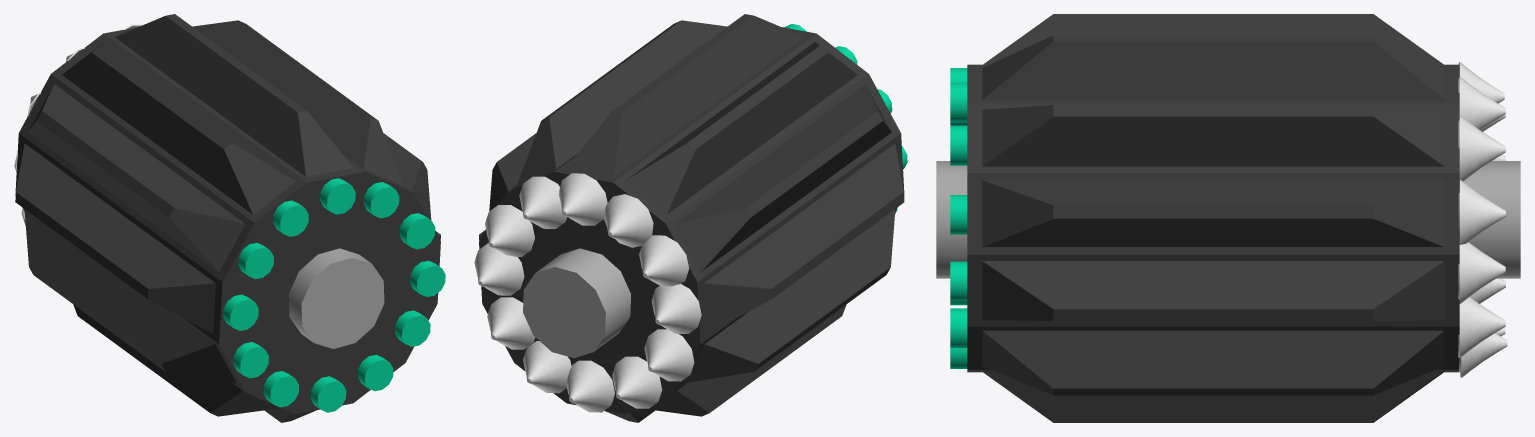
Rendered from AmmoPart.FBX.
3 views of the same model, side by side, from view 1: azimuth 30°, elevation 25°; view 2: azimuth 150°, elevation 25°; view 3: azimuth 270°, elevation 25° (orthographic). The views are drawn at different scales.
Visible parts, largest first — view 1: Ammo; view 2: Ammo, Cylinder072, Cylinder069, Cylinder068, Cylinder070, Cylinder066, Cylinder062, Cylinder061, Cylinder071, Cylinder065, Cylinder067, Cylinder064 (+1 smaller); view 3: Ammo, Cylinder066, Cylinder067, Cylinder065, Cylinder064, Cylinder068, Cylinder063, Cylinder069.
Part boxes in pixels (bbox=[...]): Ammo: bbox=[15, 14, 445, 422]; Ammo: bbox=[479, 14, 907, 422]; Cylinder072: bbox=[644, 329, 694, 381]; Cylinder069: bbox=[604, 194, 653, 247]; Cylinder068: bbox=[559, 173, 607, 225]; Cylinder070: bbox=[639, 235, 689, 286]; Cylinder066: bbox=[485, 205, 534, 256]; Cylinder062: bbox=[566, 360, 614, 412]; Cylinder061: bbox=[612, 356, 662, 408]; Cylinder071: bbox=[651, 284, 701, 333]; Cylinder065: bbox=[474, 243, 524, 295]; Cylinder067: bbox=[519, 176, 566, 228]; Cylinder064: bbox=[487, 297, 535, 349]; Ammo: bbox=[936, 14, 1520, 422]; Cylinder066: bbox=[1458, 179, 1505, 244]; Cylinder067: bbox=[1458, 115, 1505, 181]; Cylinder065: bbox=[1458, 242, 1505, 303]; Cylinder064: bbox=[1458, 297, 1505, 357]; Cylinder068: bbox=[1458, 77, 1505, 129]; Cylinder063: bbox=[1459, 333, 1507, 377]; Cylinder069: bbox=[1458, 62, 1504, 103].
Size of the model in its own units: 41.1 by 41.1 by 58.71.
